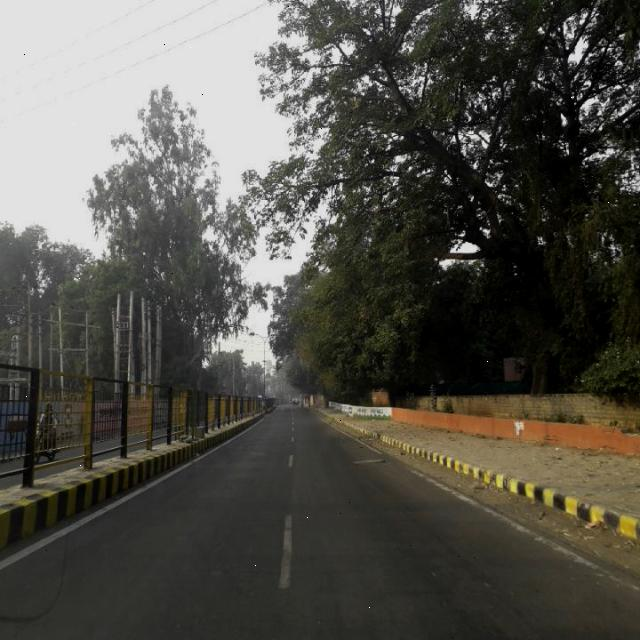D44: (535, 538, 640, 585), (377, 452, 436, 488)
